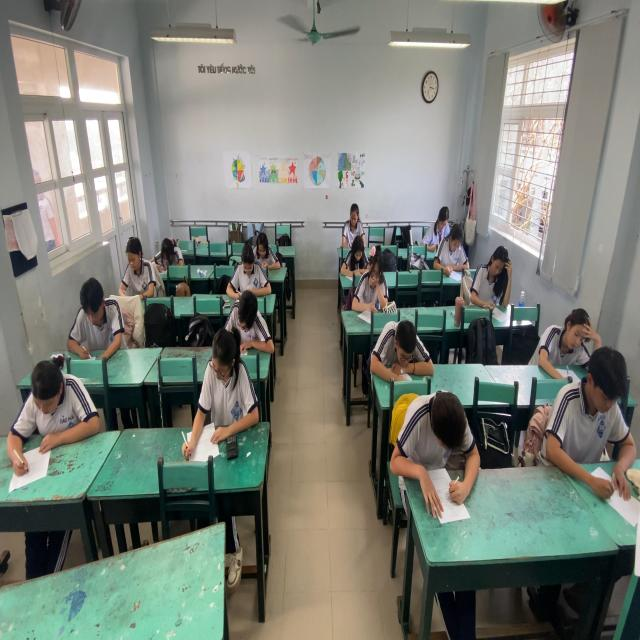not_cheating: (552, 350, 636, 475), (396, 388, 472, 504), (23, 349, 81, 454), (366, 306, 434, 386), (204, 332, 252, 434), (69, 270, 112, 354), (466, 242, 515, 314), (229, 282, 270, 362), (534, 301, 593, 356), (247, 224, 294, 288), (118, 223, 155, 302), (356, 260, 394, 317), (156, 214, 188, 276), (433, 219, 468, 273), (228, 243, 264, 292), (339, 228, 370, 282), (344, 199, 373, 249), (430, 195, 454, 248)
